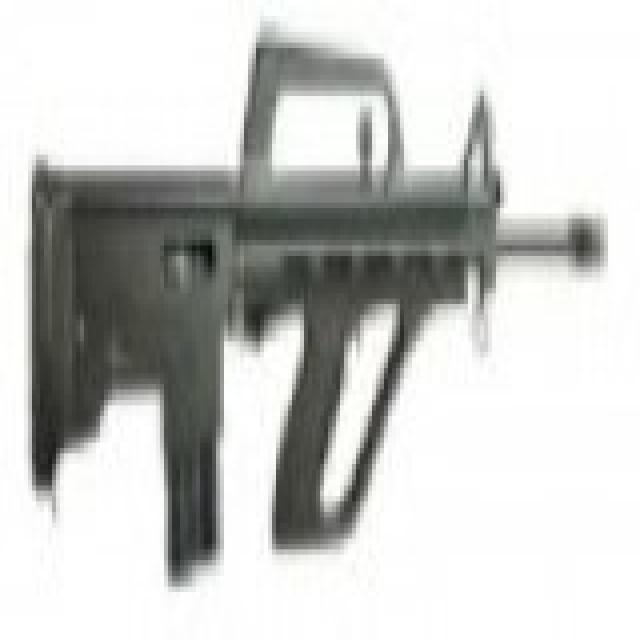Gun: (18, 36, 616, 594)
